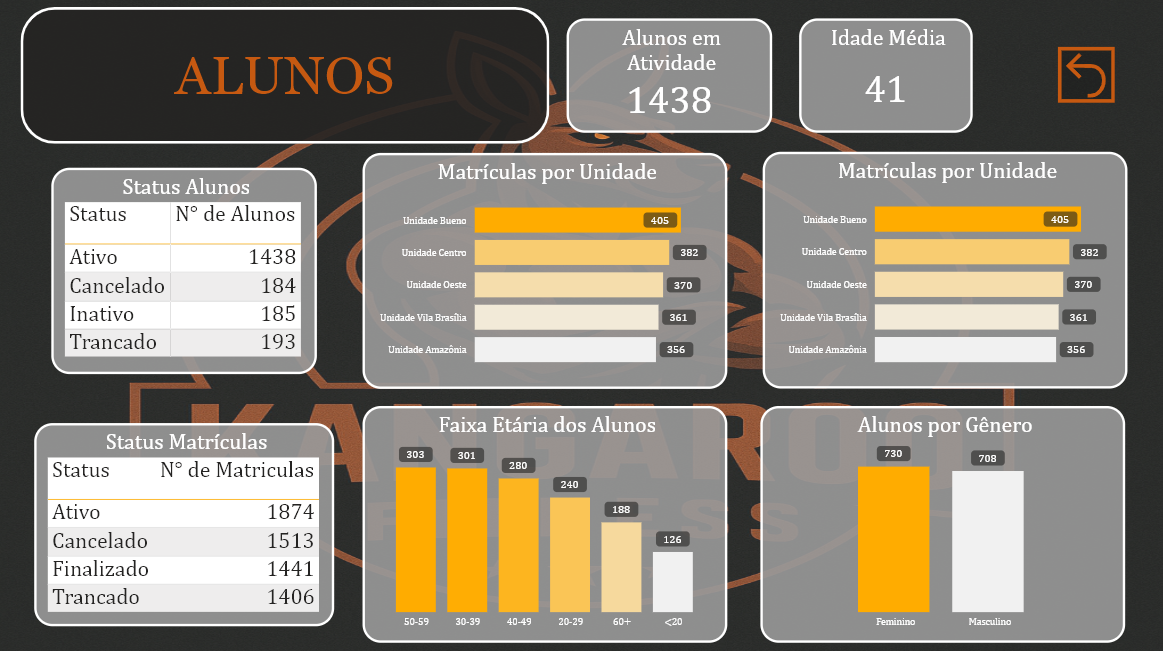

This screenshot's page, from the dashboard's own definition file:
{"tool":"powerbi","page":{"name":"Alunos","canvas":[1280,720],"ordinal":3},"visuals":[{"type":"shape","box":[22.9,9.2,580,150],"z":0,"group":"g1"},{"type":"clusteredBarChart","title":"Matrículas por Unidade","fields":{"Category":["fat_Unidade.Nome"],"Y":["0_Medidas.N_Mat_Ativas"]},"box":[397.1,168.5,400,258.6],"z":0},{"type":"textbox","box":[30.8,45.4,564.5,77.5],"z":1000,"group":"g1"},{"type":"clusteredBarChart","title":"Matrículas por Unidade","fields":{"Category":["fat_Unidade.Nome"],"Y":["0_Medidas.N_Mat_Ativas"]},"box":[835.7,167.8,400,260],"z":1000},{"type":"clusteredColumnChart","title":"Alunos por Gênero","fields":{"Y":["0_Medidas.N_Alunos_Ativos"],"Category":["dim_Clientes.Genero"]},"box":[834.3,446,400,260],"z":2000},{"type":"clusteredColumnChart","title":"Faixa Etária dos Alunos","fields":{"Y":["0_Medidas.N_Alunos"],"Category":["dim_Clientes.Faixa_Idade"]},"box":[397,446,400,260],"z":3000},{"type":"tableEx","title":"Status Matrículas","fields":{"Values":["fat_matriculas.Status","0_Medidas.N_Matriculas"]},"box":[37.3,465,329,223],"z":4000},{"type":"card","title":"Idade Média","fields":{"Values":["0_Medidas.Id_Med_Alunos"]},"box":[876.2,21,190,125],"z":5000},{"type":"card","title":"Alunos em Atividade","fields":{"Values":["0_Medidas.N_Cliente"]},"box":[621,21,225,125],"z":6000},{"type":"actionButton","box":[1160,52.5,62.5,61.2],"z":7000},{"type":"group","id":"g1","title":"Grupo 1","box":[22.9,9.2,580,150],"z":8000},{"type":"tableEx","title":"Status Alunos","fields":{"Values":["dim_Clientes.Status","0_Medidas.N_Alunos"]},"box":[56.3,185.3,291,226],"z":9000}]}

Visuals, with their boxes in screenshot pixels (x1, y1, x2, y2), scaled from the page's 1280x720 canvas onto the 1163x651 screenshot:
shape: select_region(21, 8, 548, 144)
"Matrículas por Unidade" clusteredBarChart: select_region(361, 152, 724, 386)
textbox: select_region(28, 41, 541, 111)
"Matrículas por Unidade" clusteredBarChart: select_region(759, 152, 1123, 387)
"Alunos por Gênero" clusteredColumnChart: select_region(758, 403, 1121, 638)
"Faixa Etária dos Alunos" clusteredColumnChart: select_region(361, 403, 724, 638)
"Status Matrículas" tableEx: select_region(34, 420, 333, 622)
"Idade Média" card: select_region(796, 19, 969, 132)
"Alunos em Atividade" card: select_region(564, 19, 769, 132)
actionButton: select_region(1054, 47, 1111, 103)
"Grupo 1" group: select_region(21, 8, 548, 144)
"Status Alunos" tableEx: select_region(51, 168, 316, 372)
